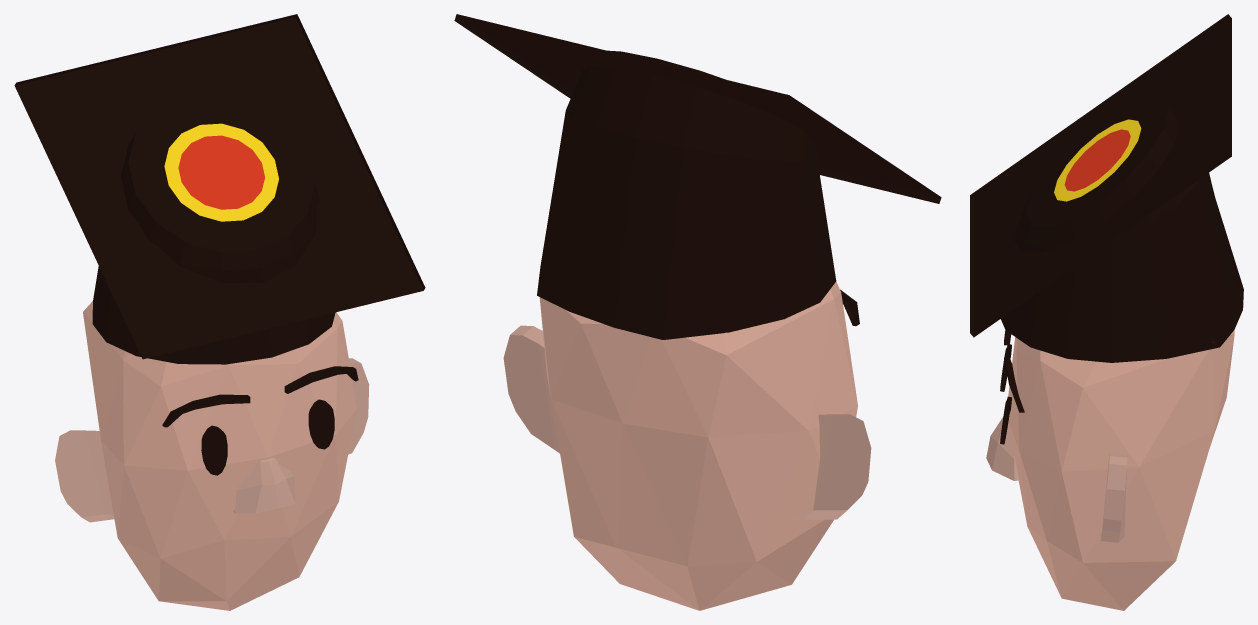
3 views of the same model, side by side, from view 1: azimuth 30°, elevation 25°; view 2: azimuth 150°, elevation 25°; view 3: azimuth 270°, elevation 25° (orthographic). The views are drawn at different scales.
Visible parts, largest first — view 1: Face, Eyes, Eyebrows; view 2: Face; view 3: Face, Eyes, Eyebrows.
Boxes of the visible parts, x1=… form: Face: x1=14, y1=14, x2=425, y2=610; Eyes: x1=201, y1=399, x2=334, y2=475; Eyebrows: x1=162, y1=366, x2=358, y2=427; Face: x1=454, y1=14, x2=941, y2=610; Face: x1=970, y1=14, x2=1243, y2=610; Eyes: x1=1000, y1=344, x2=1011, y2=444; Eyebrows: x1=1004, y1=330, x2=1024, y2=412.
Size of the model in its own units: 5.13 by 8.24 by 3.98.
1 material, 1 textured.
